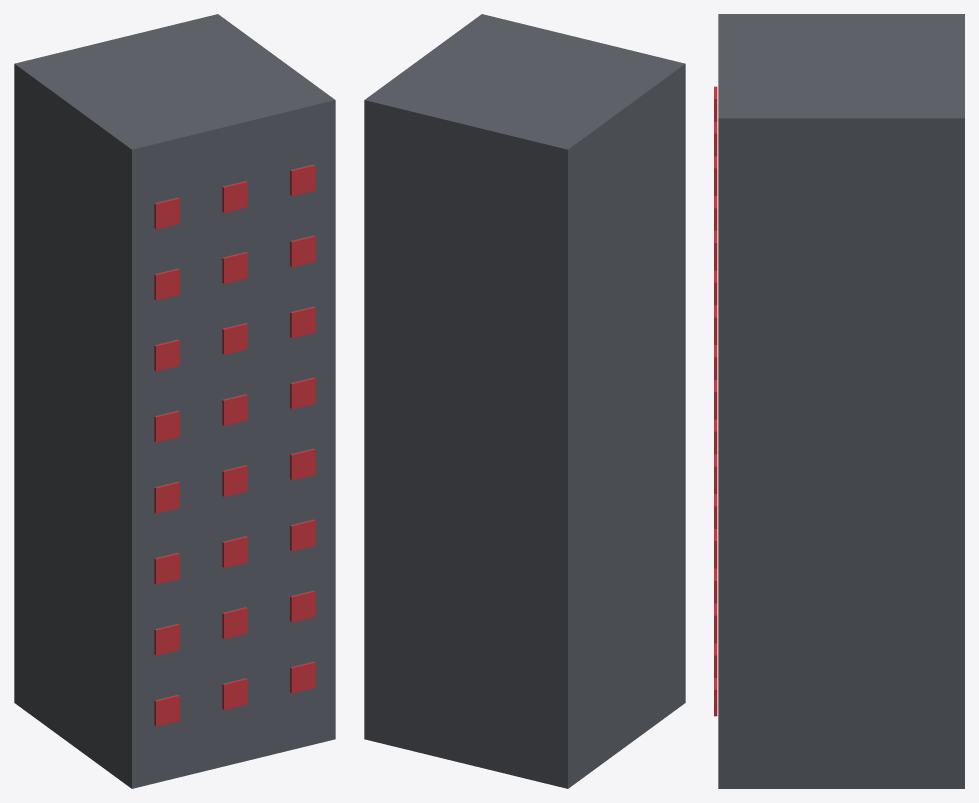
File: downtown_skyscraper.glb
3 renders of one model, left to right at view 1: azimuth 30°, elevation 25°; view 2: azimuth 150°, elevation 25°; view 3: azimuth 270°, elevation 25°, orthographic. The views are drawn at different scales.
Parts seen in each view (by area): view 1: part_0, part_19, part_3, part_8, part_11, part_14, part_16, part_17, part_22, part_1, part_5, part_6 (+13 smaller); view 2: part_0; view 3: part_0.
Part boxes in pixels (box(x1,y1,x2,y2)): part_0: box(14, 14, 335, 788); part_19: box(154, 268, 179, 299); part_3: box(290, 661, 315, 692); part_8: box(222, 536, 247, 567); part_11: box(222, 465, 247, 496); part_14: box(222, 394, 247, 425); part_16: box(154, 339, 179, 371); part_17: box(222, 323, 247, 354); part_22: box(154, 197, 179, 228); part_1: box(154, 694, 179, 726); part_5: box(222, 607, 247, 638); part_6: box(290, 590, 315, 621); part_0: box(364, 14, 685, 788); part_0: box(718, 14, 964, 788).
Bounding box in the file's own units: 3 × 9 × 3.05.
